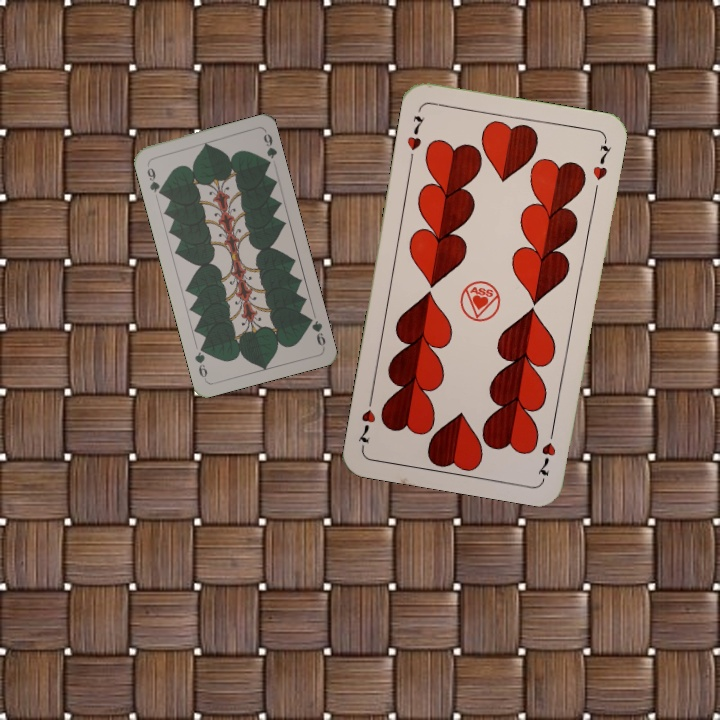G9: (303, 312, 328, 350), (143, 159, 165, 198)
H7: (534, 422, 559, 481), (403, 111, 427, 165)
